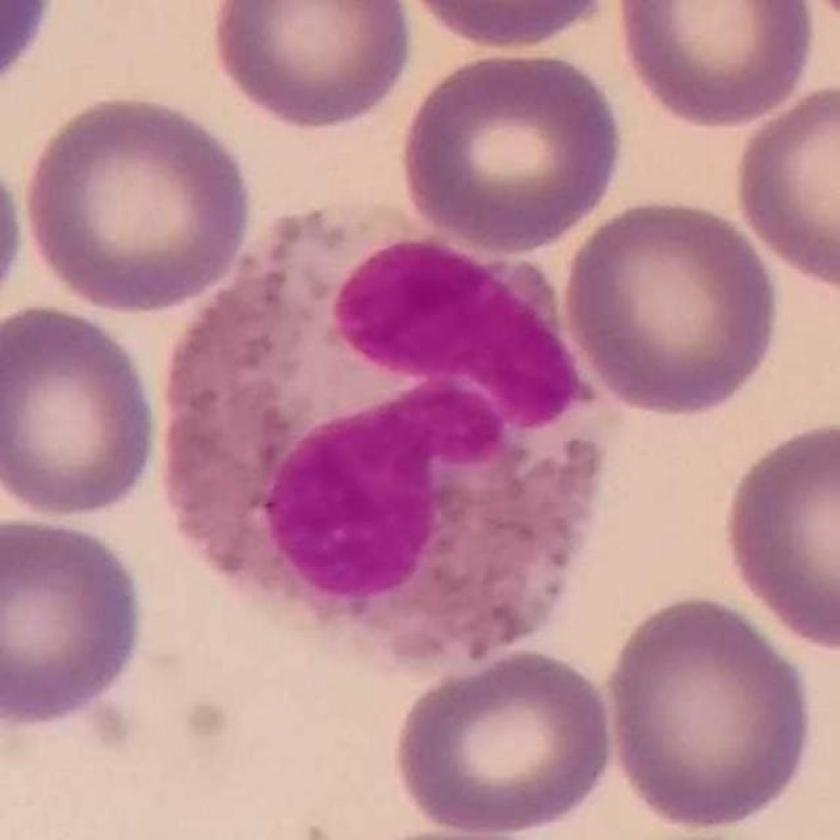eosinophil: (164, 200, 605, 677)
